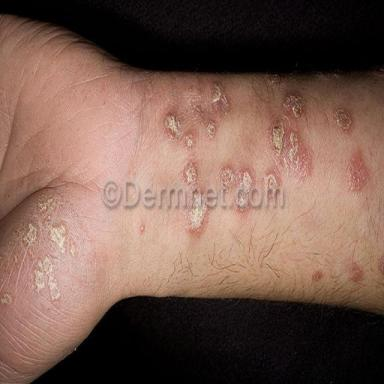Psoriasis: (0, 190, 77, 306), (163, 82, 233, 149), (271, 91, 311, 181), (348, 151, 369, 191), (220, 166, 254, 190), (185, 206, 210, 237), (334, 108, 353, 135), (181, 157, 198, 186)
